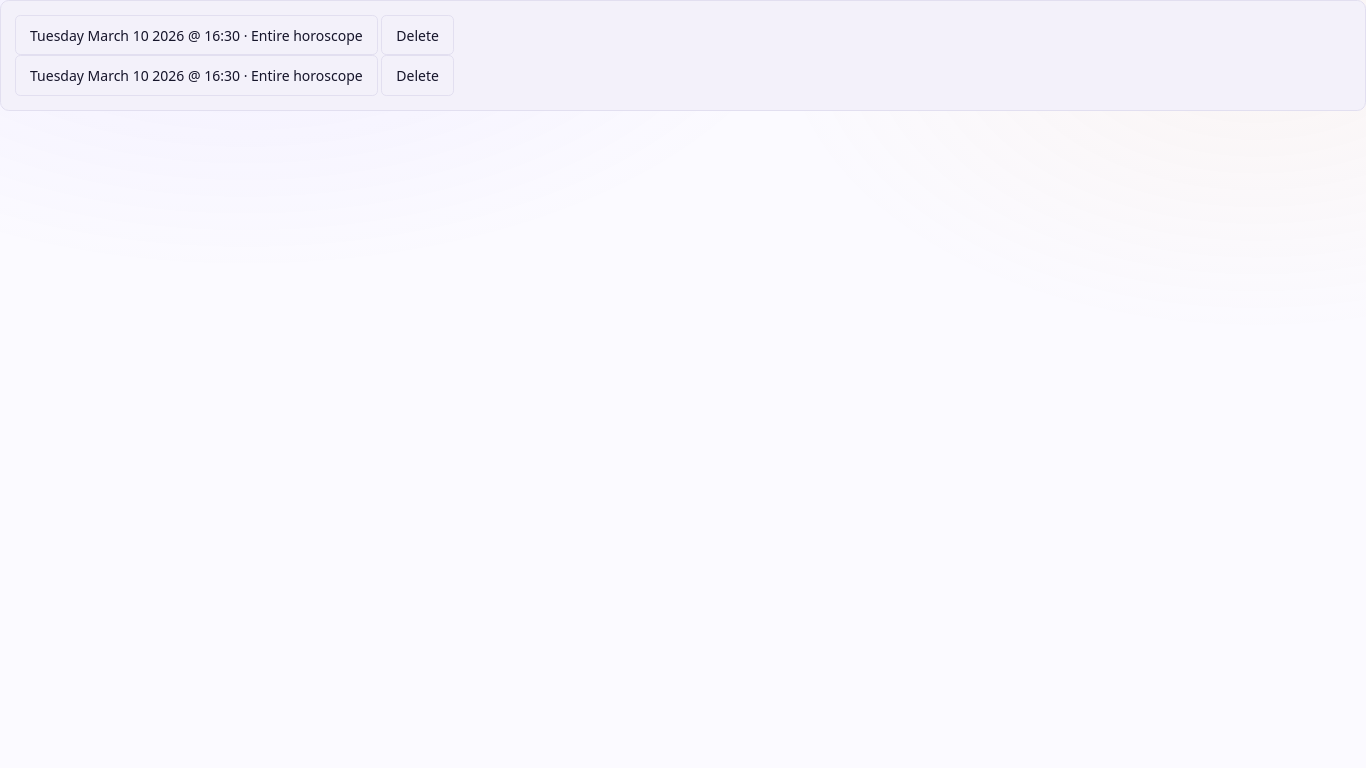
Test: SavedInterpretationsPanel: delete › from inside the modal: removes the item and closes the modal
Click the 1st button "Tuesday March 10 2026 @ 16:30 · Entire horoscope" at (196, 35), box x1=15 y1=15 x2=378 y2=56
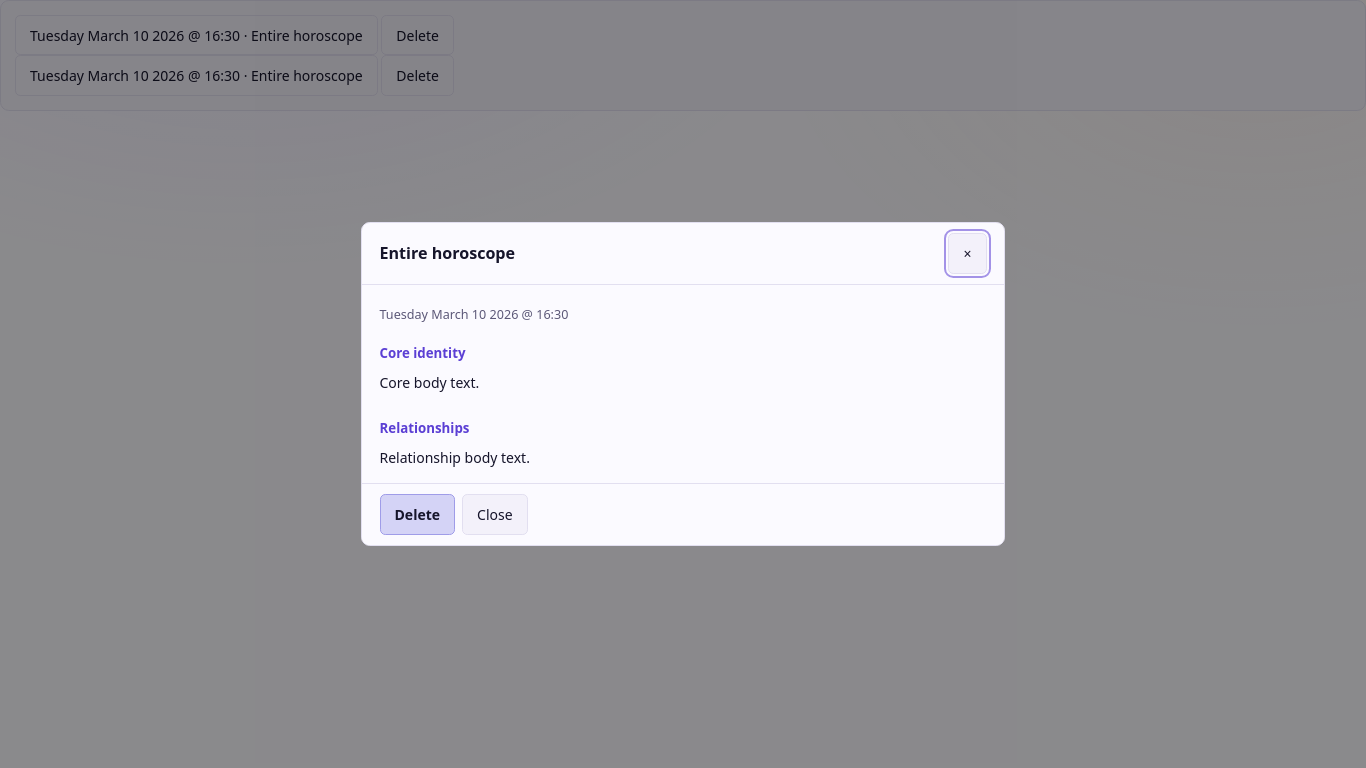
Click the button "Delete" at (417, 515), box x1=380 y1=494 x2=455 y2=535
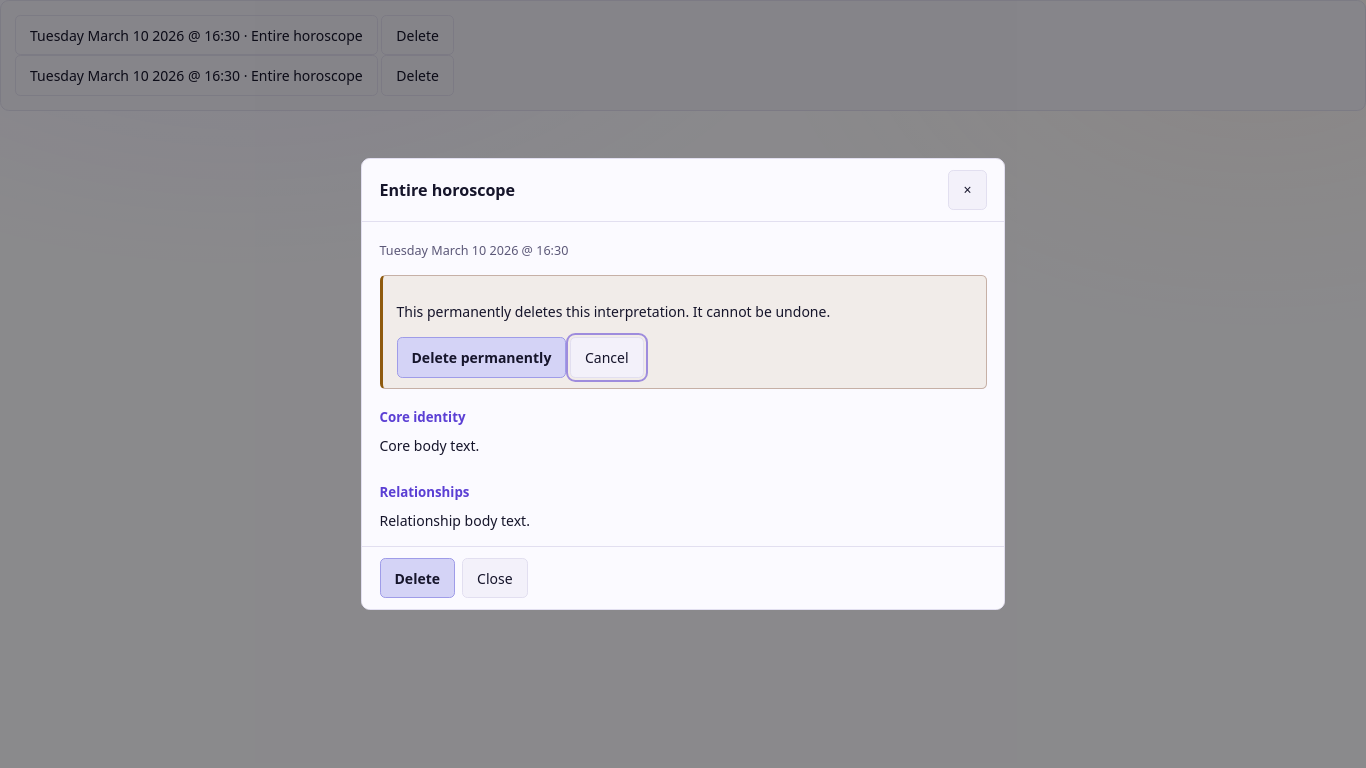
Click the button "Delete permanently" at (481, 357), box x1=396 y1=337 x2=566 y2=378
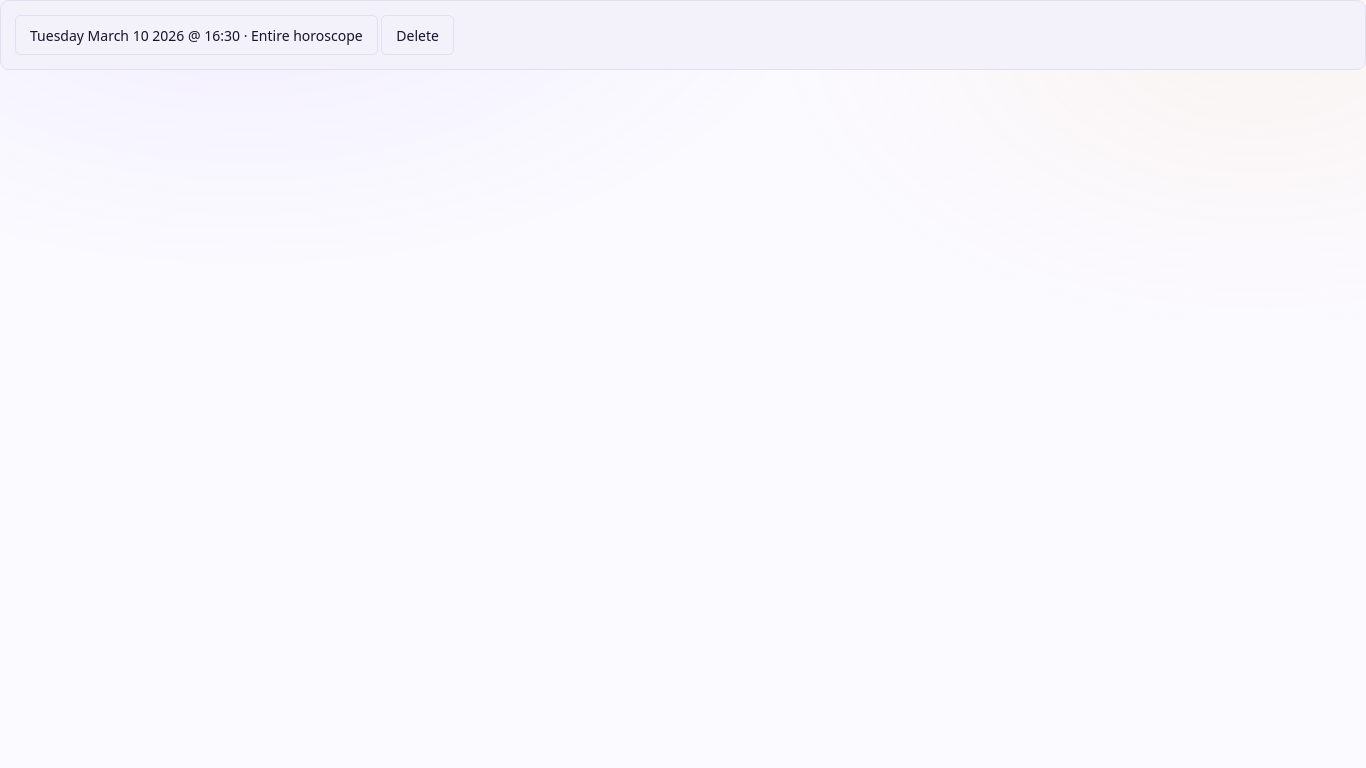
Check: the text "Core body text." is gone
